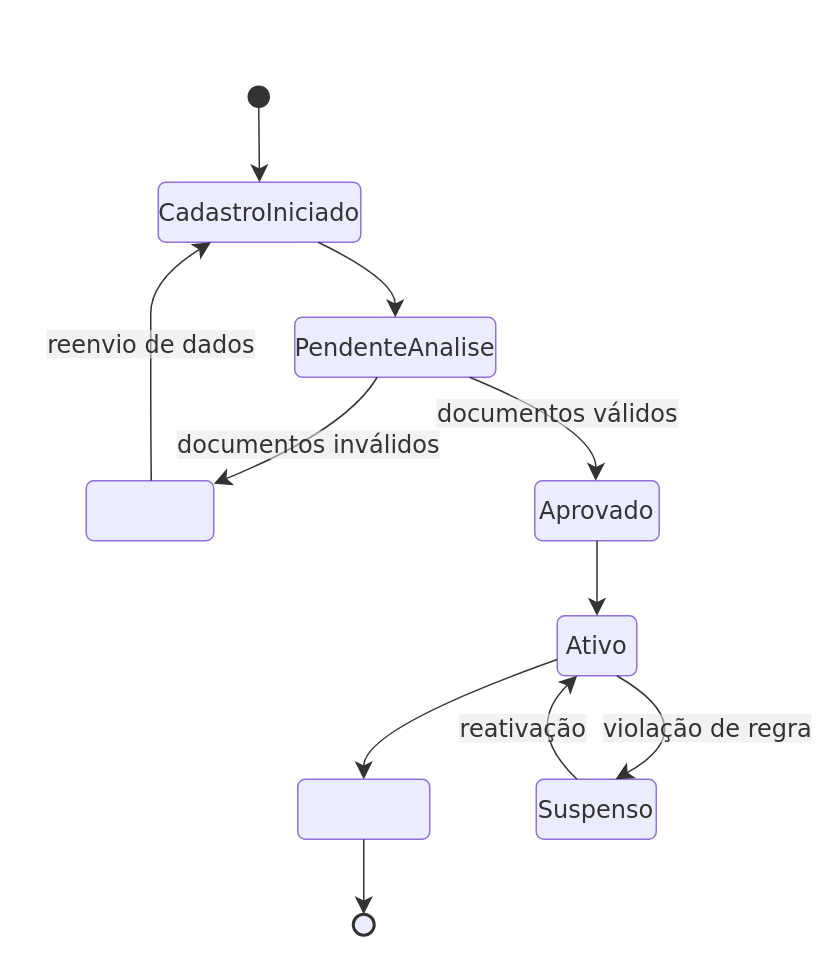
Image size: 837x962. Some labels were removed from this diagram. The box of each missing label's shape, as (x1, y1, x2, y2) in pixels:
Encerrado: (296, 778, 430, 839)
Rejeitado: (85, 479, 214, 541)
